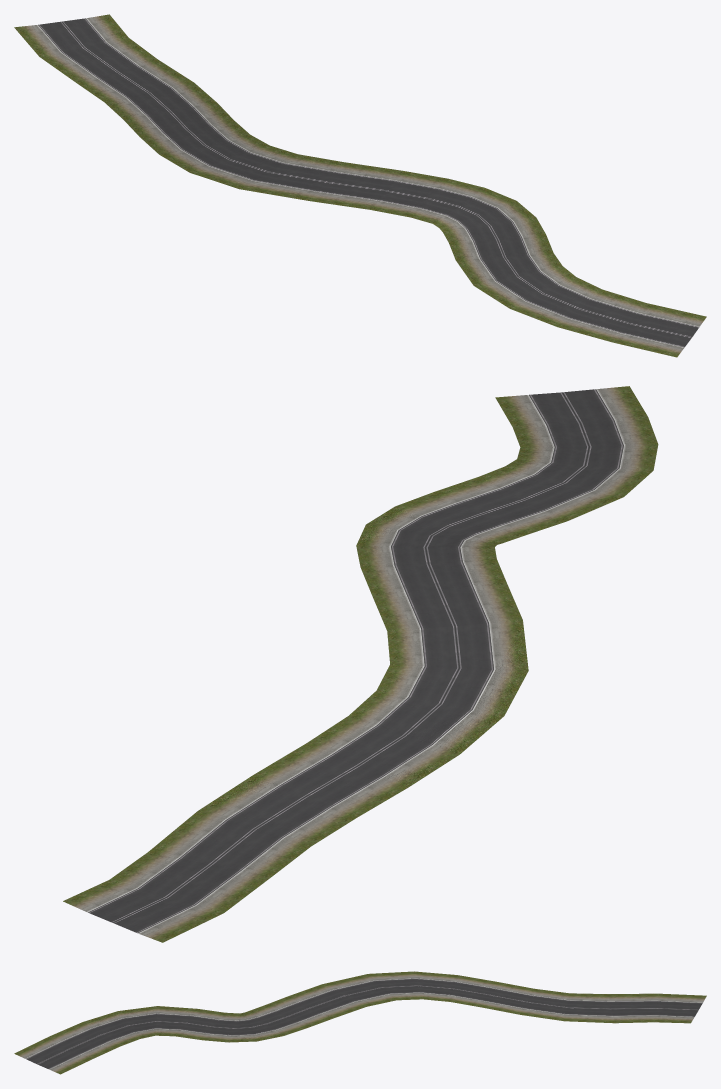
Rendered from cunte_roads37.obj.
3 renders of one model, top to bottom at view 1: azimuth 30°, elevation 25°; view 2: azimuth 150°, elevation 25°; view 3: azimuth 270°, elevation 25°, orthographic. The views are drawn at different scales.
Visible parts, largest first — view 1: cunte_roads37; view 2: cunte_roads37; view 3: cunte_roads37.
Part boxes in pixels (x1=…): cunte_roads37: x1=14, y1=14, x2=706, y2=357; cunte_roads37: x1=63, y1=386, x2=658, y2=942; cunte_roads37: x1=14, y1=971, x2=706, y2=1074.
Bounding box in the file's own units: 60.9 × 6.57 × 201.
